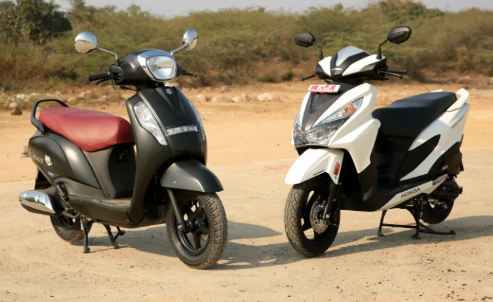bike: (19, 28, 230, 272), (283, 26, 473, 262)
